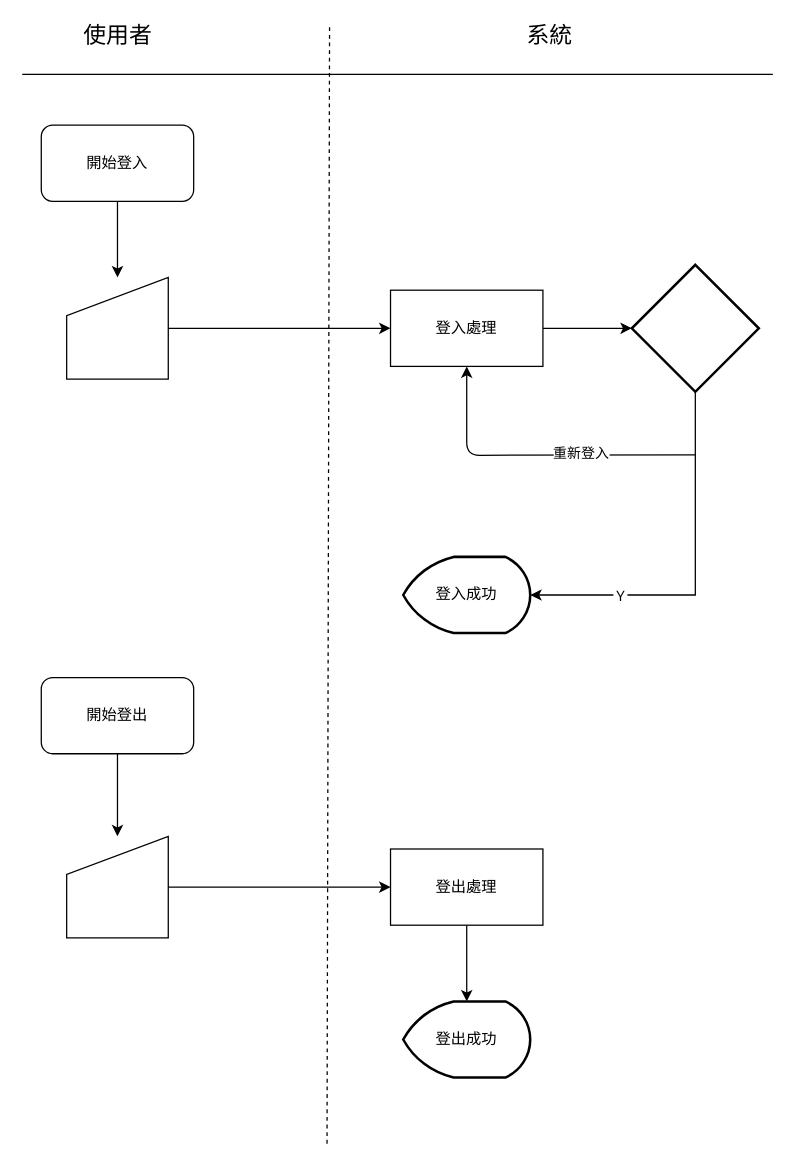
Image size: 796x1167. Some labels were removed from this diagram. The shapes that lost their labels are listed below. From the top down, each one's box as (x1, y1, x2, y2) in pixels, then its label:
(65, 276, 168, 379): 輸入帳密
(630, 263, 759, 392): 帳密正確？
(65, 835, 168, 938): 登出
